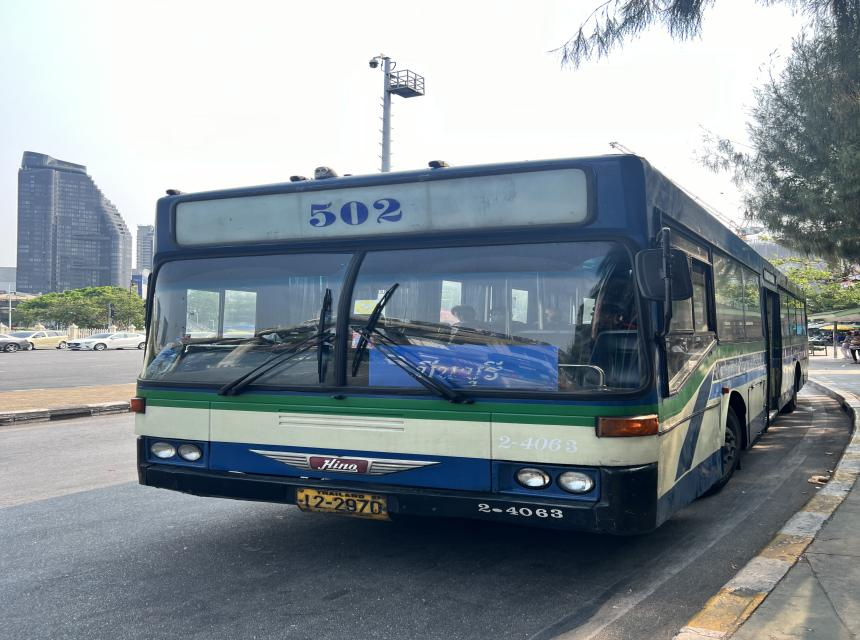BMTA-bus: (130, 154, 809, 538)
Bus Line Number: (289, 191, 418, 232)
Bus Side Number: (470, 498, 574, 524)
Destination Sign: (370, 346, 561, 390)
